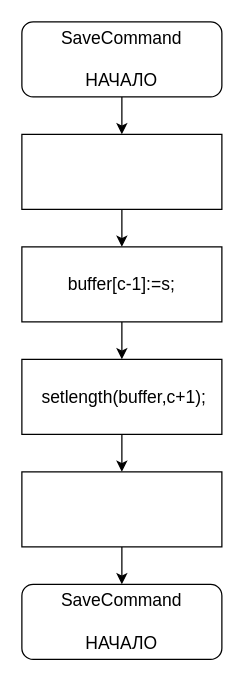
This 244x681 diagram has some shape labels left out. Each missing label, with the box of its shape:
c:=length(buffer);: (21, 133, 222, 209)
curCom:=c;: (21, 471, 222, 547)
